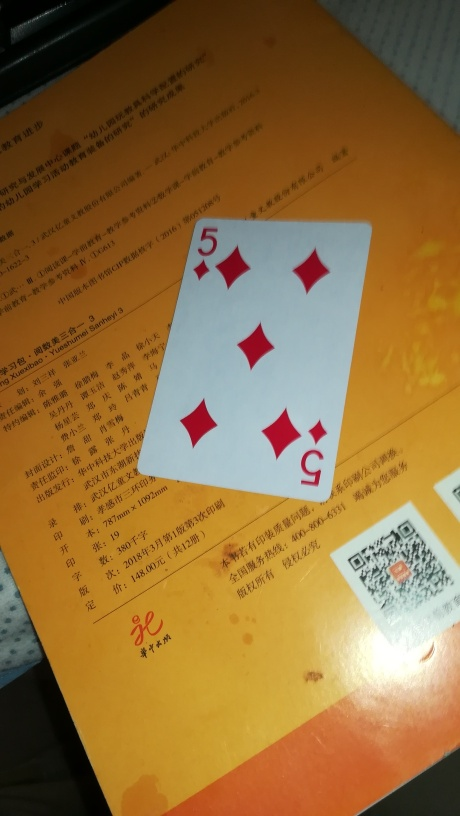fk 5: (135, 212, 374, 504)
